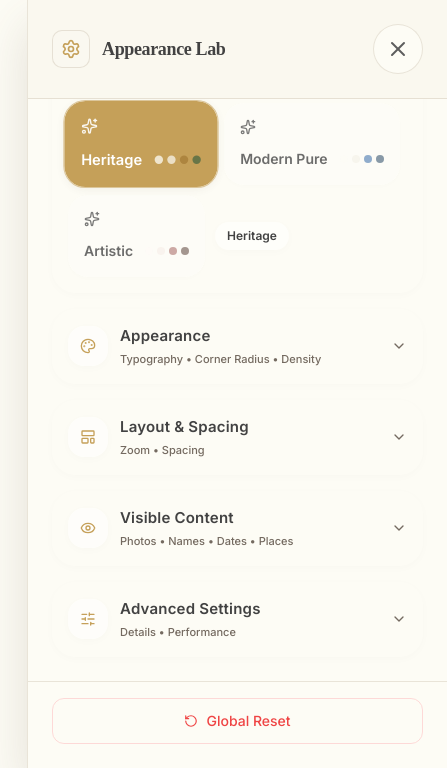
Test case: SettingsDrawer › does not show the empty advanced engine tab
(page scrolled)
Click the button "Advanced Settings Details • Performance".
click(238, 619)  # box [52, 582, 423, 657]
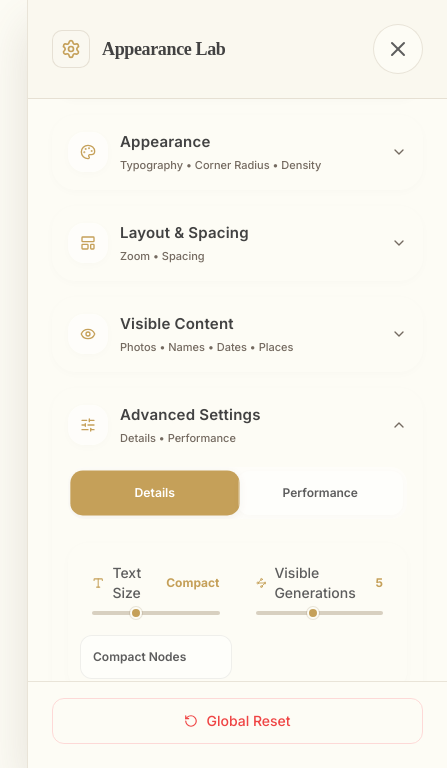
Now the button "Details" is shown, box [70, 470, 239, 515]
Now the button "Performance" is shown, box [238, 471, 403, 515]
